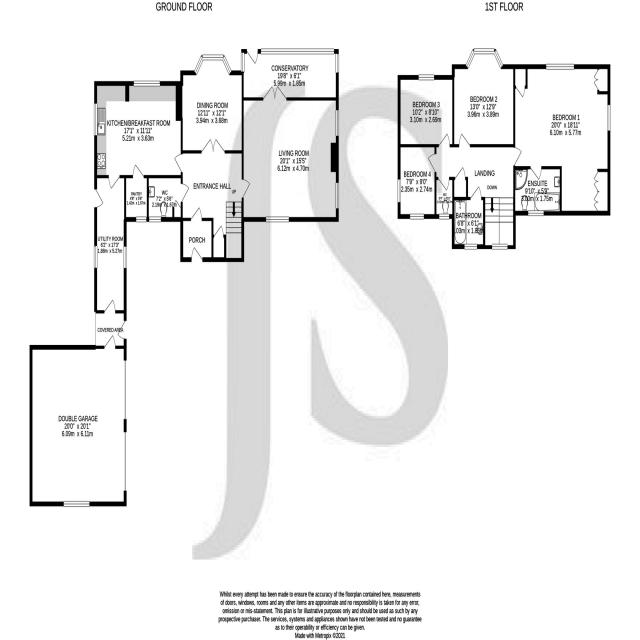DOOR: (173, 153, 183, 173), (94, 188, 104, 208), (117, 320, 127, 340), (458, 133, 471, 148), (438, 132, 450, 148), (246, 49, 258, 65), (191, 246, 203, 262), (190, 205, 202, 221), (104, 298, 116, 314), (530, 166, 542, 181), (513, 146, 522, 166), (470, 185, 482, 200), (428, 153, 437, 173), (132, 164, 144, 179), (108, 175, 120, 190), (181, 183, 190, 203), (104, 334, 116, 349), (241, 179, 250, 198), (438, 177, 450, 191)
DOUBLE DOOR: (263, 85, 287, 101), (201, 138, 225, 154)
ROOM: (513, 64, 611, 216), (241, 85, 339, 222), (94, 80, 183, 190), (175, 54, 244, 154), (452, 48, 515, 148), (241, 48, 339, 101), (397, 75, 454, 148), (397, 144, 437, 220)
WINDOW: (193, 53, 232, 76), (465, 48, 504, 70), (261, 48, 334, 55), (546, 63, 574, 70), (133, 80, 160, 87), (266, 216, 289, 223), (94, 103, 98, 136), (93, 245, 98, 269), (418, 74, 435, 81), (528, 210, 544, 217), (492, 243, 508, 250), (335, 182, 339, 209), (335, 109, 339, 136), (410, 213, 424, 220), (397, 179, 401, 203), (123, 246, 127, 269), (464, 243, 477, 250), (149, 216, 161, 223), (241, 52, 245, 72), (335, 53, 339, 73), (136, 216, 147, 223), (439, 213, 449, 220)
